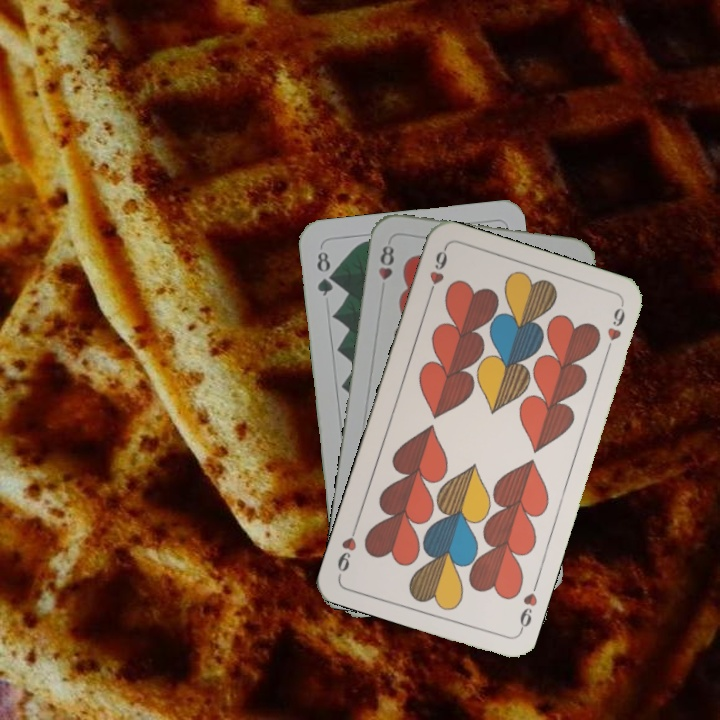G8: (312, 247, 337, 298)
H8: (374, 241, 397, 296)
H9: (424, 244, 450, 302), (515, 578, 541, 636)
